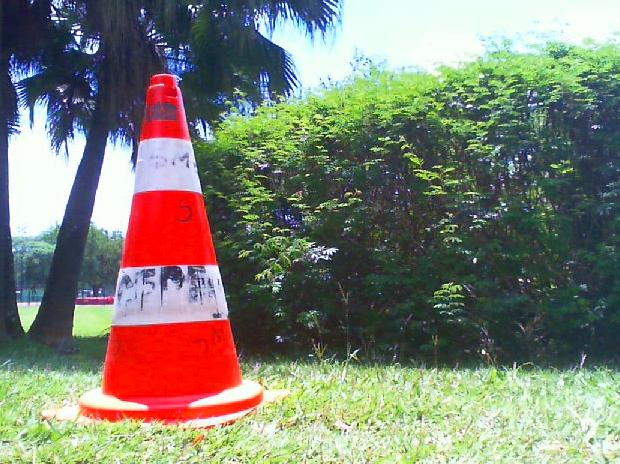0 cone: (42, 73, 291, 445)
